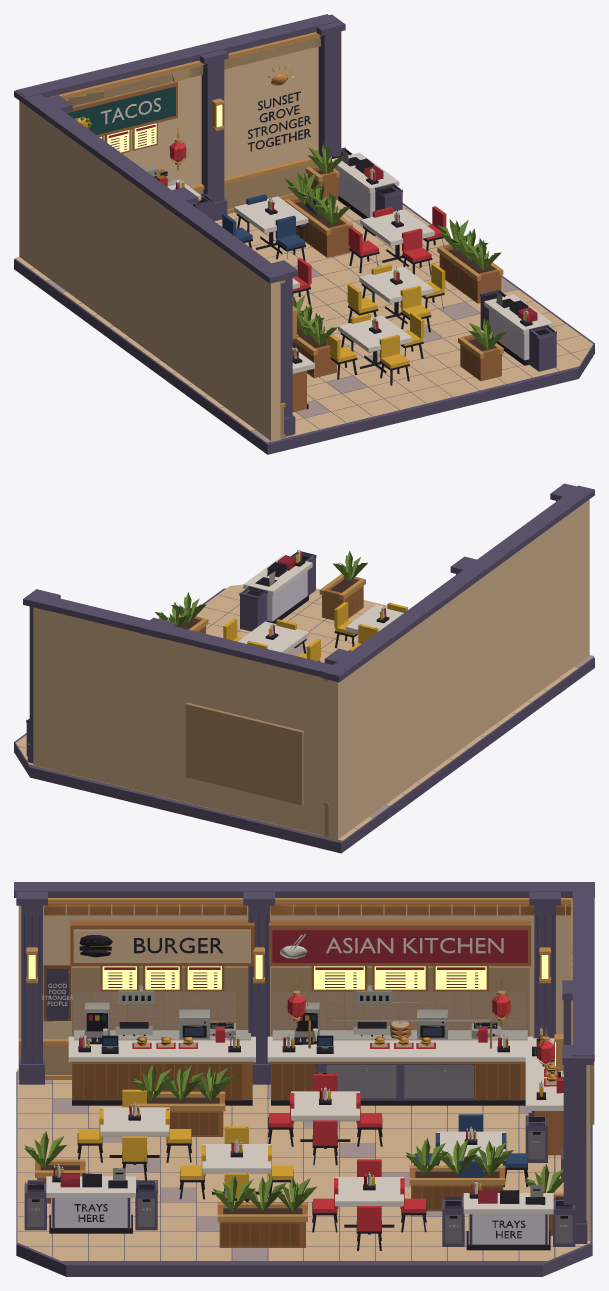
3 renders of one model, top to bottom at view 1: azimuth 30°, elevation 25°; view 2: azimuth 150°, elevation 25°; view 3: azimuth 270°, elevation 25°, orthographic. The views are drawn at different scales.
Parts seen in each view (by area): view 1: interior_pal_canvasTan, interior_pal_trouserViolet, roof_pal_trouserViolet, interior_pal_picketWhite, interior_pal_woodWarm, interior_pal_uiDark, interior_pal_khaki, interior_pal_brass, interior_pal_schoolBusYellow, interior_pal_foliage, interior_pal_survivorRed, interior_pal_tealDark (+6 smaller); view 2: interior_pal_canvasTan, interior_pal_trouserViolet, roof_pal_trouserViolet, interior_pal_khaki, interior_pal_picketWhite, interior_pal_schoolBusYellow, interior_pal_teeLavender, interior_pal_uiDark, interior_pal_woodWarm, interior_pal_grass, interior_pal_brass, interior_pal_foliage; view 3: interior_pal_canvasTan, interior_pal_trouserViolet, interior_pal_woodWarm, interior_pal_picketWhite, interior_pal_uiDark, roof_pal_trouserViolet, interior_pal_bandage, interior_pal_brass, interior_pal_redDark, interior_pal_khaki, interior_pal_silver, interior_pal_hairSilver (+11 smaller).
Part boxes in pixels (x1,y1,x2,y2): interior_pal_canvasTan: [15, 39, 592, 441]; interior_pal_trouserViolet: [14, 14, 594, 454]; roof_pal_trouserViolet: [14, 14, 336, 283]; interior_pal_picketWhite: [100, 97, 553, 373]; interior_pal_woodWarm: [67, 81, 501, 412]; interior_pal_uiDark: [154, 91, 550, 409]; interior_pal_khaki: [64, 37, 320, 437]; interior_pal_brass: [46, 32, 503, 438]; interior_pal_schoolBusYellow: [77, 117, 524, 368]; interior_pal_foliage: [75, 116, 505, 349]; interior_pal_survivorRed: [108, 124, 529, 359]; interior_pal_tealDark: [67, 86, 175, 134]; interior_pal_canvasTan: [16, 499, 589, 840]; interior_pal_trouserViolet: [14, 483, 594, 853]; roof_pal_trouserViolet: [26, 485, 594, 682]; interior_pal_khaki: [185, 702, 328, 836]; interior_pal_picketWhite: [238, 550, 403, 653]; interior_pal_schoolBusYellow: [223, 555, 407, 661]; interior_pal_teeLavender: [267, 571, 307, 621]; interior_pal_uiDark: [234, 555, 390, 661]; interior_pal_woodWarm: [190, 576, 363, 633]; interior_pal_grass: [155, 557, 367, 627]; interior_pal_brass: [177, 574, 365, 837]; interior_pal_foliage: [158, 550, 367, 627]; interior_pal_canvasTan: [17, 904, 590, 1260]; interior_pal_trouserViolet: [16, 891, 593, 1276]; interior_pal_woodWarm: [35, 904, 571, 1247]; interior_pal_picketWhite: [31, 933, 567, 1226]; interior_pal_uiDark: [27, 935, 572, 1250]; roof_pal_trouserViolet: [14, 882, 594, 1061]; interior_pal_bandage: [73, 992, 525, 1036]; interior_pal_brass: [18, 898, 572, 1221]; interior_pal_redDark: [60, 929, 527, 1203]; interior_pal_khaki: [18, 910, 594, 1124]; interior_pal_silver: [74, 985, 563, 1206]; interior_pal_hairSilver: [27, 1065, 572, 1243].
Size of the model in its own units: 10.11 by 4.91 by 12.8.
